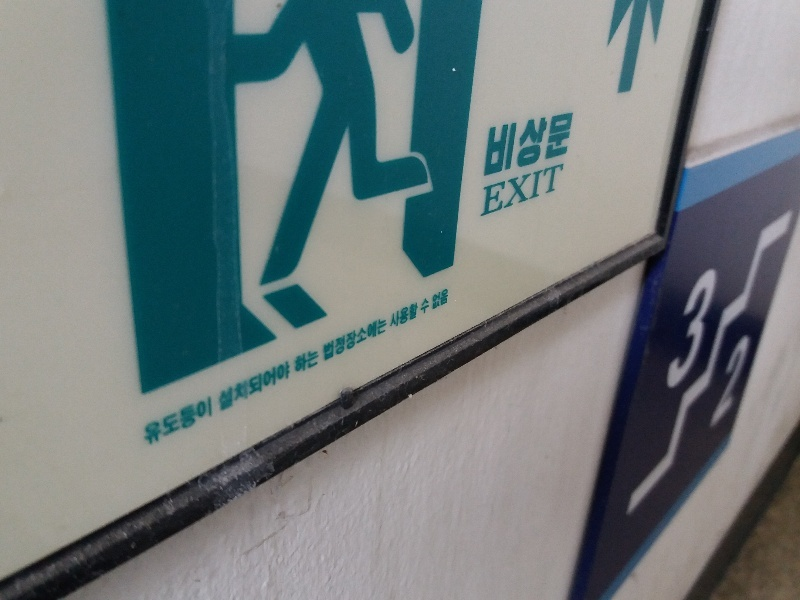text: (705, 261, 721, 399), (689, 261, 704, 399), (737, 322, 752, 436), (678, 261, 688, 399), (725, 322, 736, 436), (497, 110, 512, 180), (513, 110, 528, 180), (529, 110, 544, 180), (545, 110, 560, 180), (561, 110, 574, 180), (497, 162, 512, 219), (513, 162, 528, 219), (529, 162, 544, 219), (545, 162, 560, 219), (225, 357, 240, 414), (241, 357, 256, 414), (257, 357, 272, 414), (273, 357, 288, 414), (145, 394, 160, 448), (161, 394, 176, 448), (177, 394, 192, 448), (193, 394, 208, 448), (483, 162, 496, 219), (337, 314, 352, 363), (353, 314, 368, 363), (369, 314, 384, 363), (433, 288, 449, 331), (322, 314, 336, 363), (401, 288, 416, 331), (417, 288, 432, 331), (488, 110, 496, 180), (305, 345, 320, 377), (390, 288, 400, 331), (218, 357, 224, 414), (294, 345, 304, 377), (561, 162, 565, 219), (209, 394, 213, 448), (141, 394, 144, 448), (385, 314, 388, 363), (753, 322, 754, 436), (289, 357, 291, 414)
